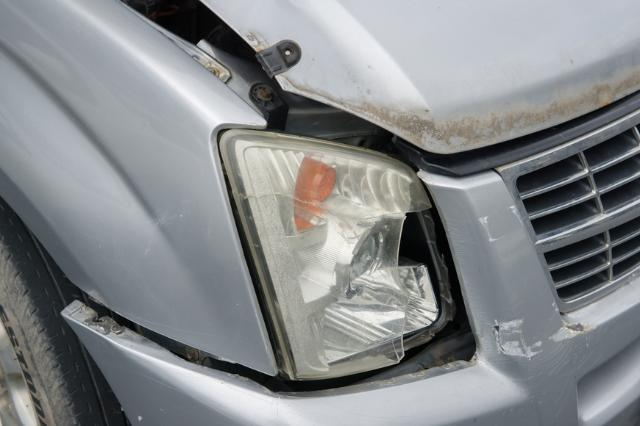Bumper: (470, 204, 576, 398)
Light: (237, 130, 452, 379)
